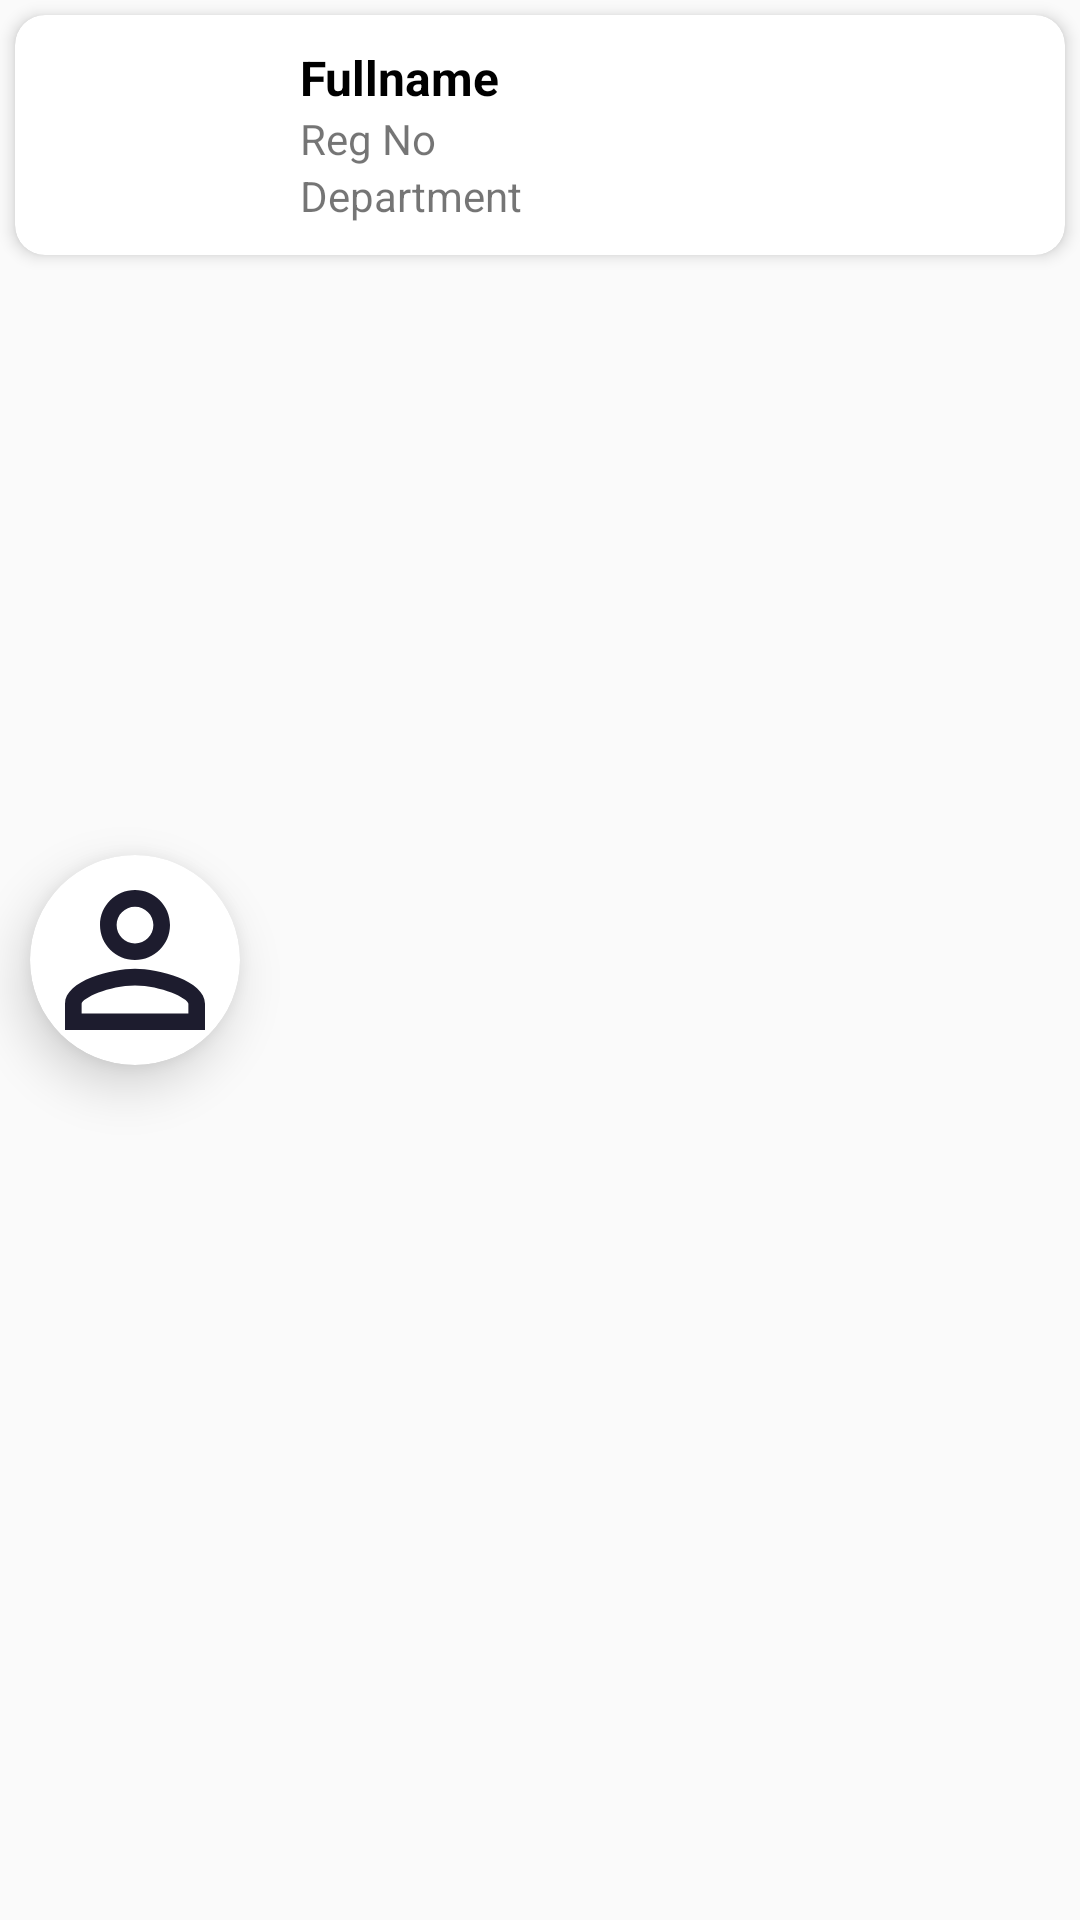

Icon click points for this 1080px×1920px phone screenshot, format [x,y]:
people: [135,960]
